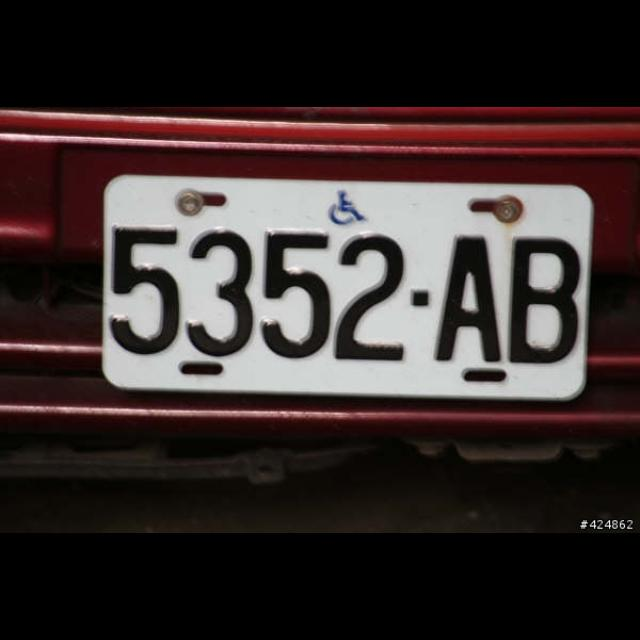plate: (101, 174, 595, 402)
